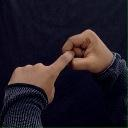hand: (7, 49, 75, 104), (61, 28, 113, 73)
